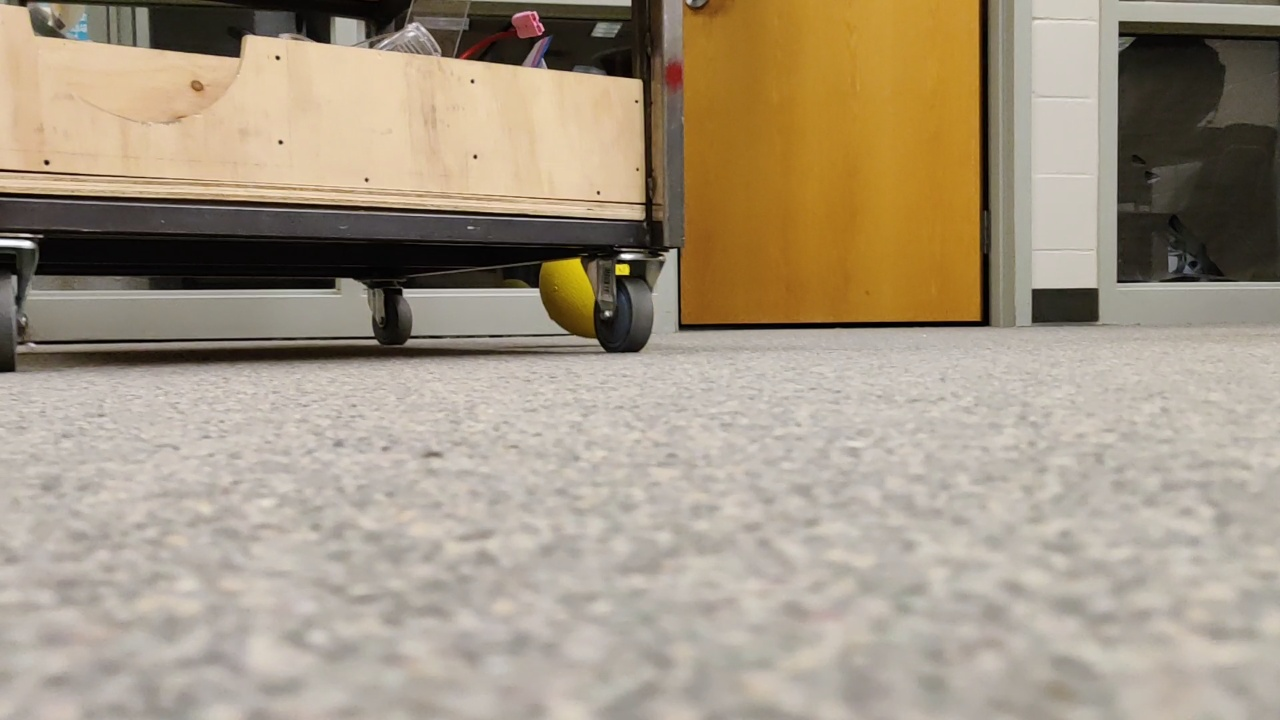Ball: (535, 246, 618, 345)
